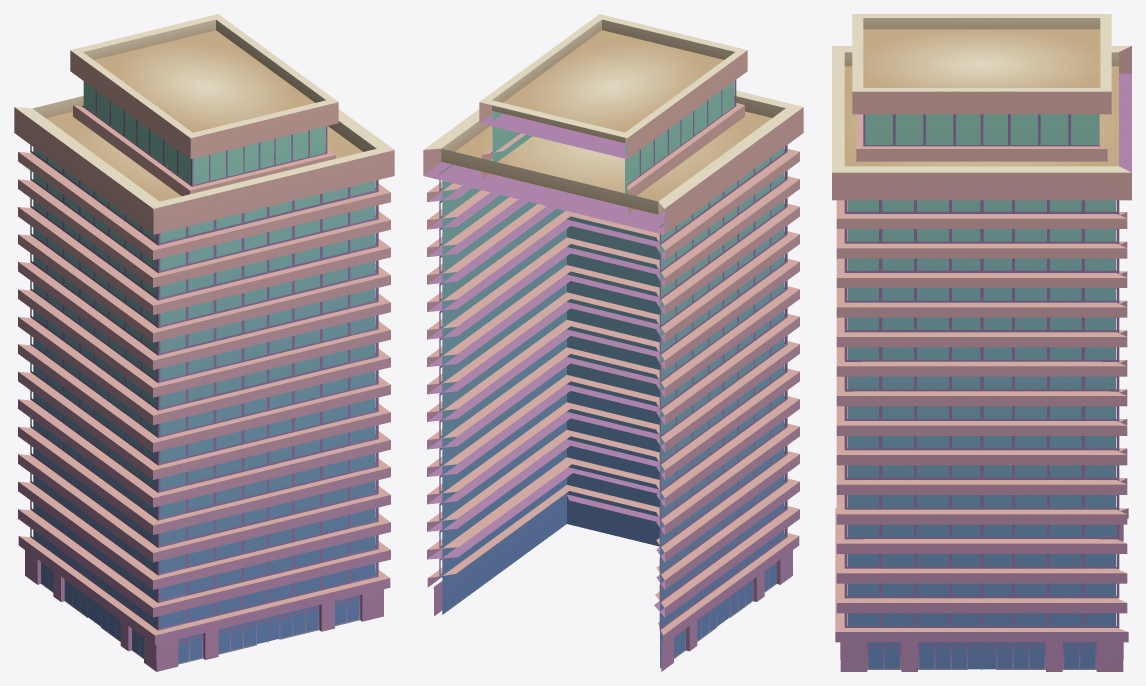
3 renders of one model, left to right at view 1: azimuth 30°, elevation 25°; view 2: azimuth 150°, elevation 25°; view 3: azimuth 270°, elevation 25°, orthographic. The views are drawn at different scales.
Parts seen in each view (by area): view 1: SM_17F_01; view 2: SM_17F_01; view 3: SM_17F_01.
Part boxes in pixels (x1=…): SM_17F_01: x1=14, y1=14, x2=394, y2=671; SM_17F_01: x1=423, y1=14, x2=803, y2=671; SM_17F_01: x1=832, y1=14, x2=1131, y2=671.
Bounding box in the file's own units: 28.52 × 58.76 × 28.52.
